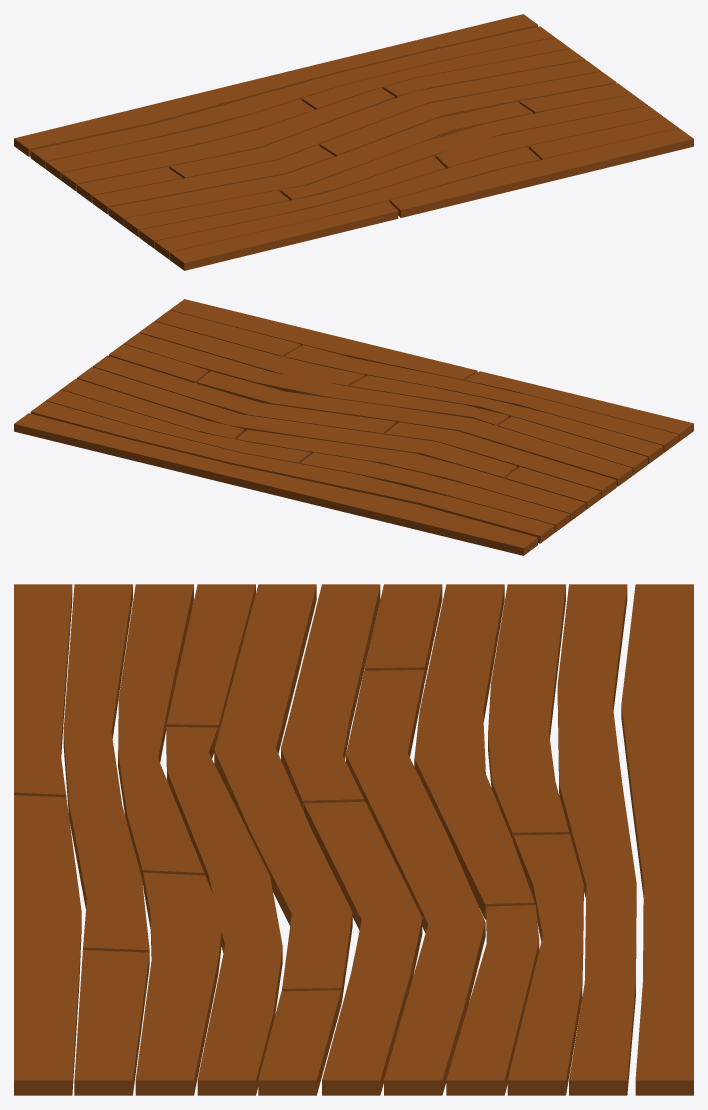
File: floorboards_mdl.fbx
The picture shows the model from 3 angles, top to bottom: view 1: azimuth 30°, elevation 25°; view 2: azimuth 150°, elevation 25°; view 3: azimuth 270°, elevation 25°; orthographic projection. The views are drawn at different scales.
Visible parts, largest first — view 1: pCube41; view 2: pCube41; view 3: pCube41.
Boxes of the visible parts, bbox=[...] form: pCube41: bbox=[14, 14, 693, 270]; pCube41: bbox=[14, 299, 693, 555]; pCube41: bbox=[14, 584, 693, 1095].
Size of the model in its own units: 3026 by 44.02 by 1754.
1 material, 1 textured.
